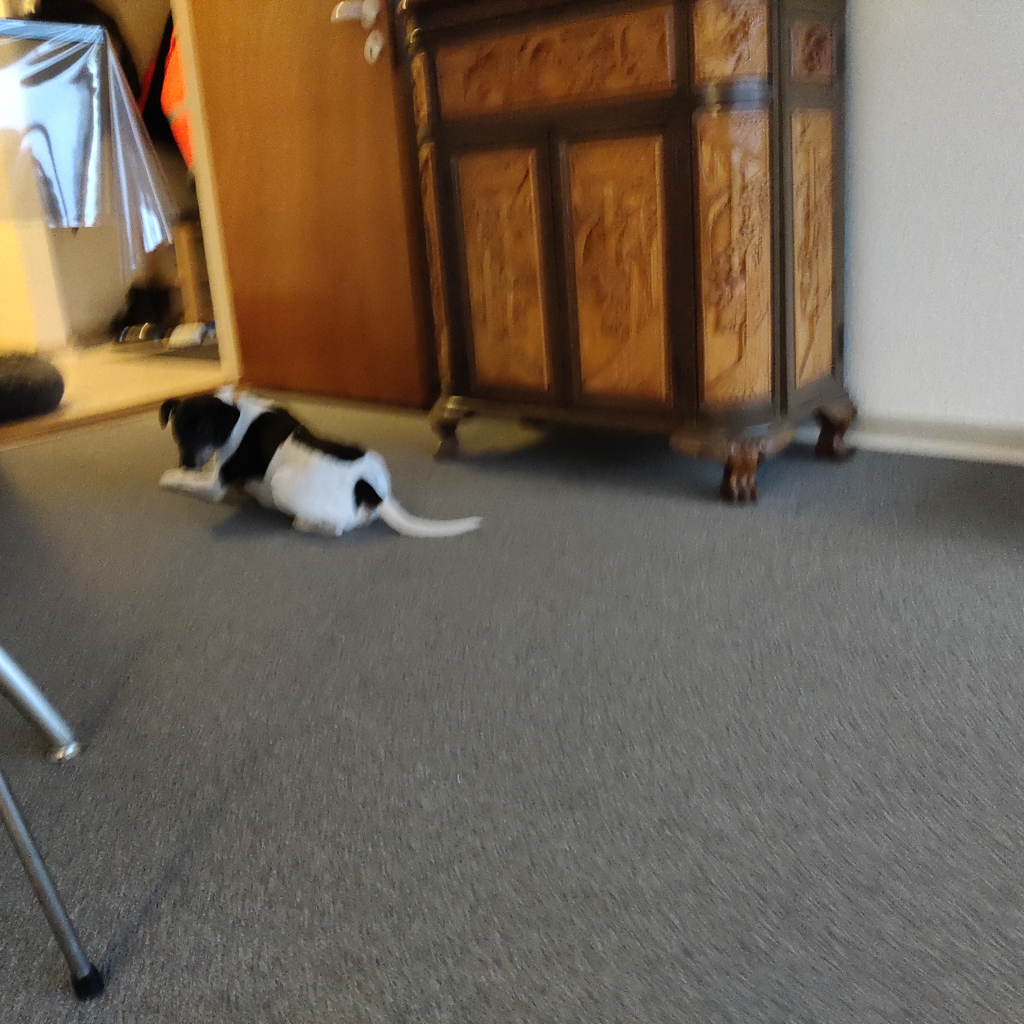Dog: (126, 369, 500, 558)
